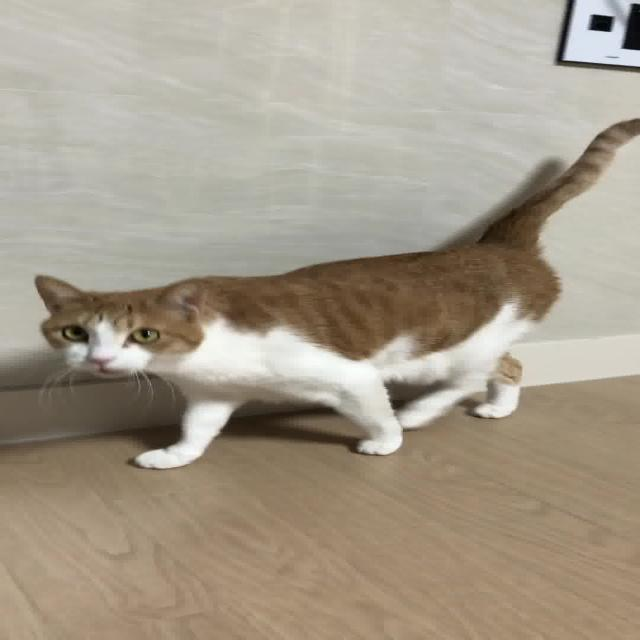cat: (0, 108, 640, 480)
